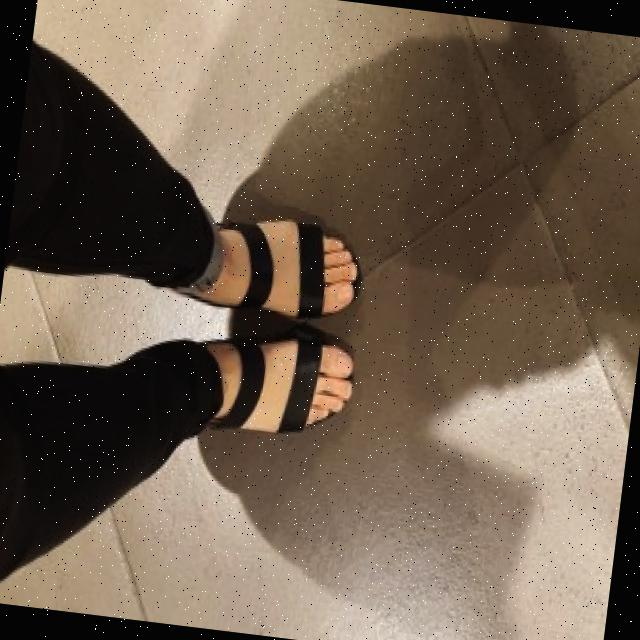no-boots: (152, 204, 376, 337), (172, 328, 368, 464)
